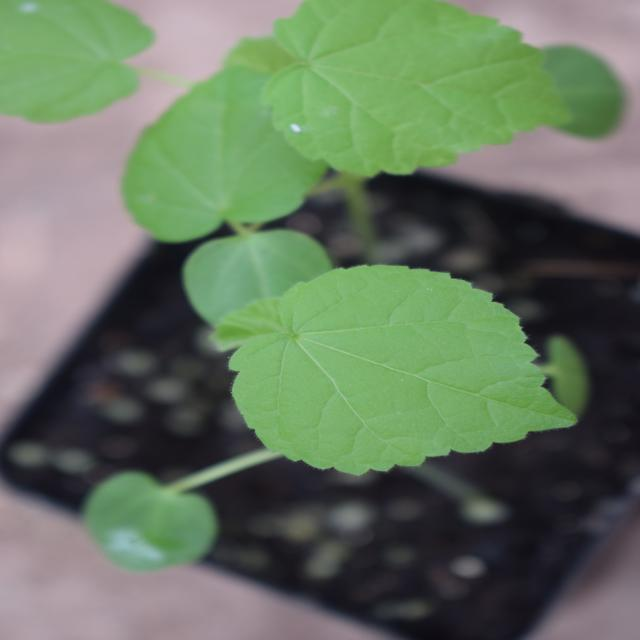abutilon theophrasti: (117, 116, 416, 575)
